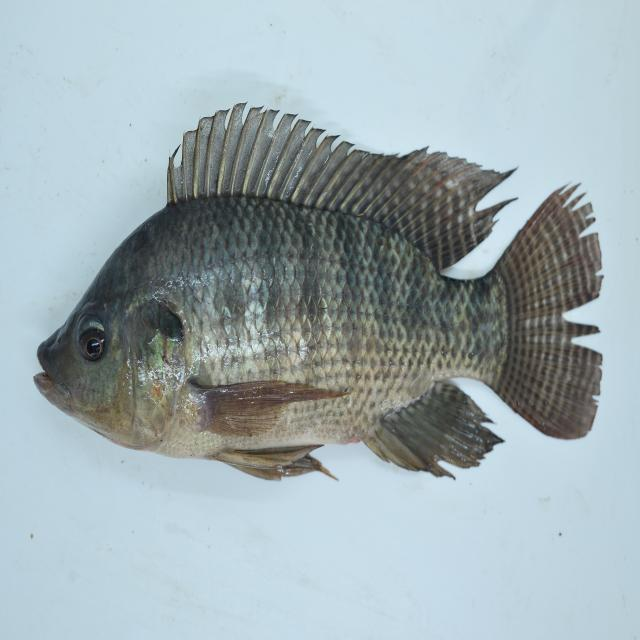Healthy Fish: (31, 98, 609, 494)
